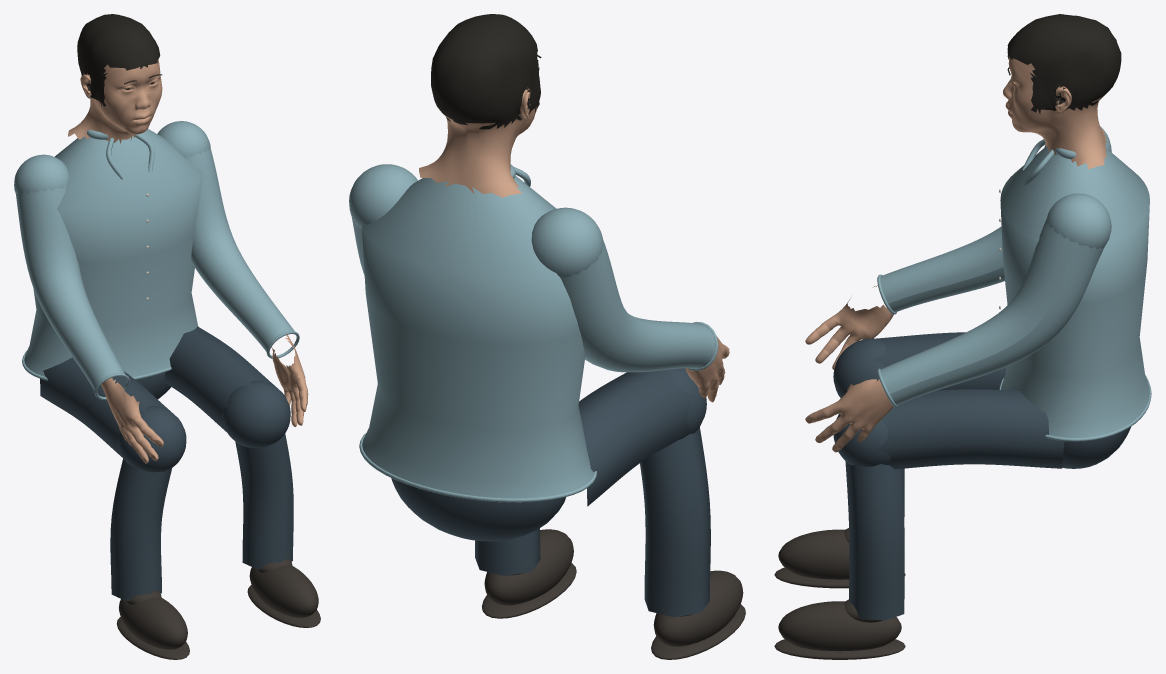
Rendered from young-man-seated.glb.
3 renders of one model, left to right at view 1: azimuth 30°, elevation 25°; view 2: azimuth 150°, elevation 25°; view 3: azimuth 270°, elevation 25°, orthographic. The views are drawn at different scales.
Visible parts, largest first — view 1: loose opaque tailored shirt torso, continuous tailored long sleeve r, anatomical face neck and articulated fingers, continuous tailored long sleeve l, fully covered seated shin r, fully covered seated shin l, fully covered seated thigh l, scalp fitted hair, fully covered seated thigh r, rounded trouser knee l, fully enclosed leather shoe l, fully enclosed leather shoe r (+6 smaller); view 2: loose opaque tailored shirt torso, fully covered seated shin r, scalp fitted hair, continuous tailored long sleeve r, fully covered seated thigh r, anatomical face neck and articulated fingers, opaque seated trouser pelvis, rounded tailored shoulder cap r, fully enclosed leather shoe l, fully enclosed leather shoe r, rounded tailored shoulder cap l, fully covered seated shin l (+4 smaller); view 3: loose opaque tailored shirt torso, continuous tailored long sleeve l, fully covered seated thigh l, anatomical face neck and articulated fingers, fully covered seated shin l, scalp fitted hair, continuous tailored long sleeve r, fully enclosed leather shoe l, fully enclosed leather shoe r, rounded tailored shoulder cap l, fully covered seated thigh r, rounded trouser knee r (+5 smaller).
Part boxes in pixels (left/top/right/bottom): loose opaque tailored shirt torso: left=24, top=129, right=203, bottom=377; continuous tailored long sleeve r: left=15, top=186, right=125, bottom=390; anatomical face neck and articulated fingers: left=68, top=59, right=308, bottom=463; continuous tailored long sleeve l: left=186, top=148, right=294, bottom=351; fully covered seated shin r: left=110, top=458, right=171, bottom=601; fully covered seated shin l: left=235, top=433, right=293, bottom=569; fully covered seated thigh l: left=164, top=326, right=275, bottom=433; scalp fitted hair: left=77, top=14, right=160, bottom=106; fully covered seated thigh r: left=40, top=357, right=170, bottom=459; rounded trouser knee l: left=222, top=380, right=290, bottom=448; fully enclosed leather shoe l: left=249, top=565, right=318, bottom=617; fully enclosed leather shoe r: left=119, top=597, right=187, bottom=649; loose opaque tailored shirt torso: left=362, top=175, right=593, bottom=498; fully covered seated shin r: left=640, top=427, right=710, bottom=617; scalp fitted hair: left=431, top=14, right=540, bottom=129; continuous tailored long sleeve r: left=560, top=240, right=715, bottom=372; fully covered seated thigh r: left=578, top=369, right=697, bottom=506; anatomical face neck and articulated fingers: left=419, top=87, right=729, bottom=402; opaque seated trouser pelvis: left=391, top=478, right=565, bottom=541; rounded tailored shoulder cap r: left=531, top=207, right=603, bottom=277; fully enclosed leather shoe l: left=484, top=529, right=573, bottom=605; fully enclosed leather shoe r: left=653, top=570, right=743, bottom=646; rounded tailored shoulder cap l: left=349, top=164, right=417, bottom=228; fully covered seated shin l: left=475, top=528, right=540, bottom=575; loose opaque tailored shirt torso: left=1000, top=146, right=1149, bottom=437; continuous tailored long sleeve l: left=880, top=219, right=1104, bottom=405; fully covered seated thigh l: left=873, top=389, right=1064, bottom=469; anatomical face neck and articulated fingers: left=805, top=57, right=1107, bottom=452; fully covered seated shin l: left=845, top=461, right=904, bottom=620; scalp fitted hair: left=1007, top=14, right=1121, bottom=114; continuous tailored long sleeve r: left=880, top=145, right=1045, bottom=312; fully enclosed leather shoe l: left=778, top=601, right=901, bottom=651; fully enclosed leather shoe r: left=778, top=529, right=849, bottom=579; rounded tailored shoulder cap l: left=1046, top=193, right=1111, bottom=249; fully covered seated thigh r: left=870, top=332, right=1006, bottom=390; rounded trouser knee r: left=833, top=338, right=885, bottom=397.
Size of the model in its own units: 0.5349 by 1.34 by 0.7637.
